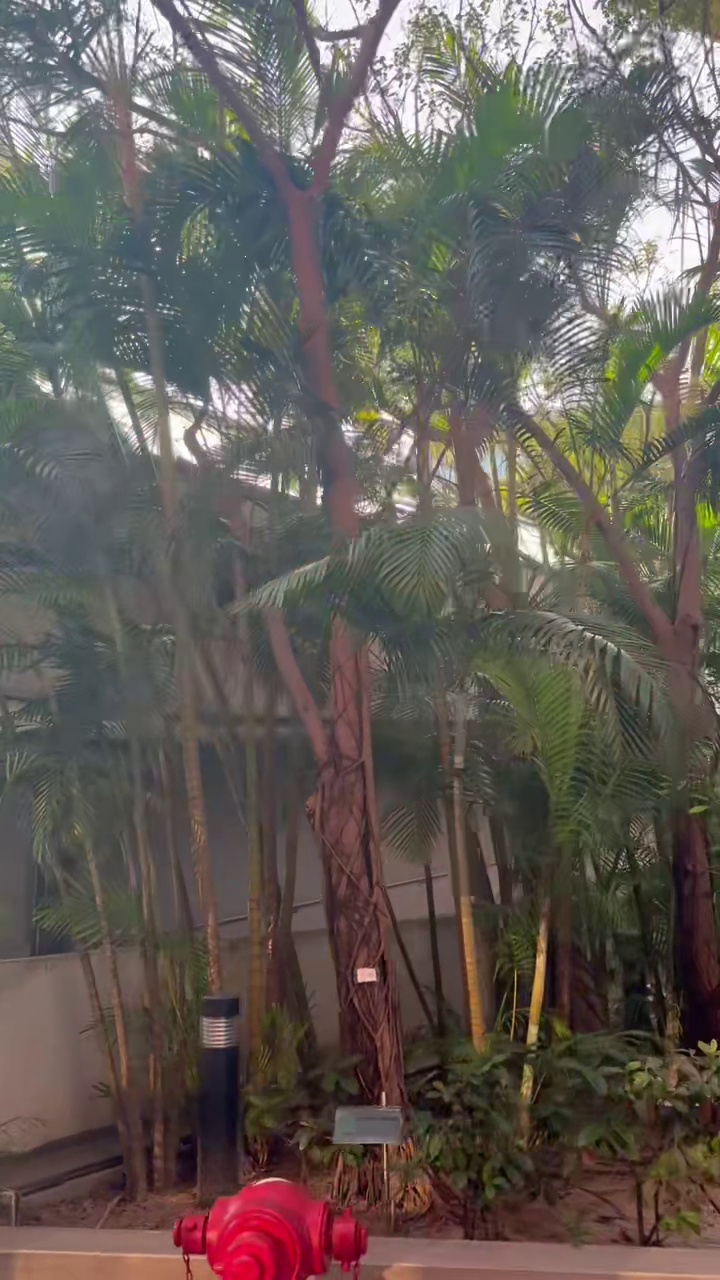Ficus benjamina: (156, 0, 405, 1104)
